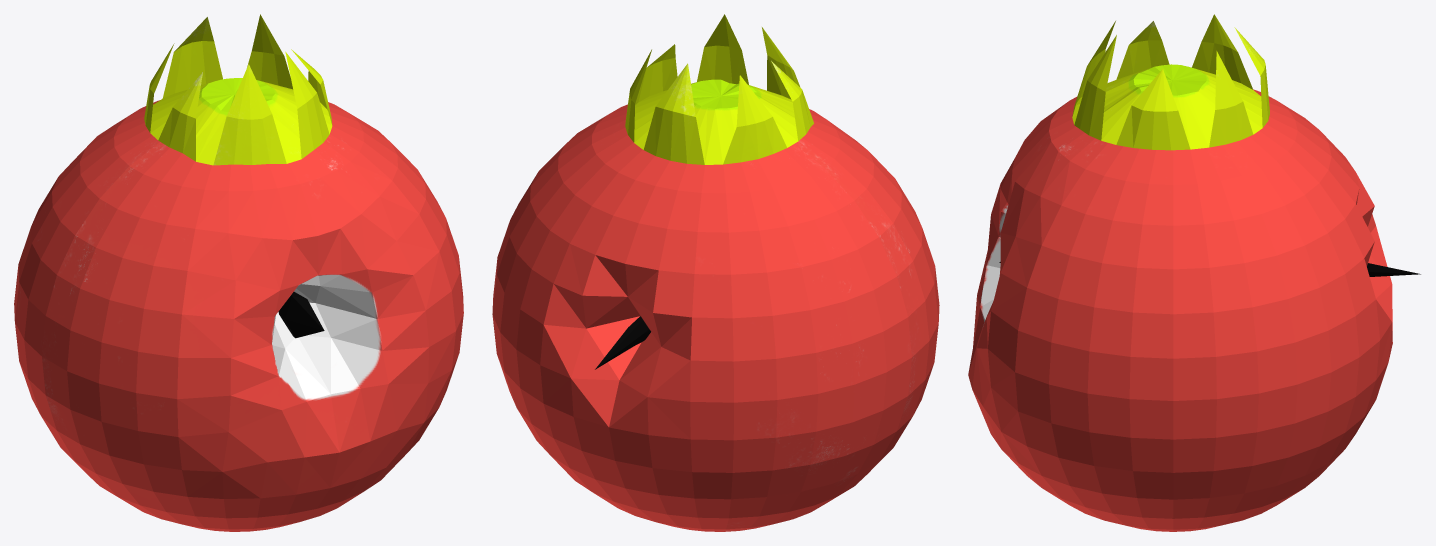
File: tometo.obj
The picture shows the model from 3 angles, left to right: view 1: azimuth 30°, elevation 25°; view 2: azimuth 150°, elevation 25°; view 3: azimuth 270°, elevation 25°; orthographic projection. The views are drawn at different scales.
Visible parts, largest first — view 1: 球.001; view 2: 球.001; view 3: 球.001.
Part boxes in pixels (x1,y1,x2,y2): 球.001: (14,14,463,531); 球.001: (492,14,939,531); 球.001: (968,14,1420,531).
Size of the model in its own units: 0.4399 by 0.5076 by 0.4299.
1 material, 1 textured.
